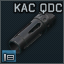KAC QDC 7.62x51 flash suppressor kit: (0, 0, 64, 64)
